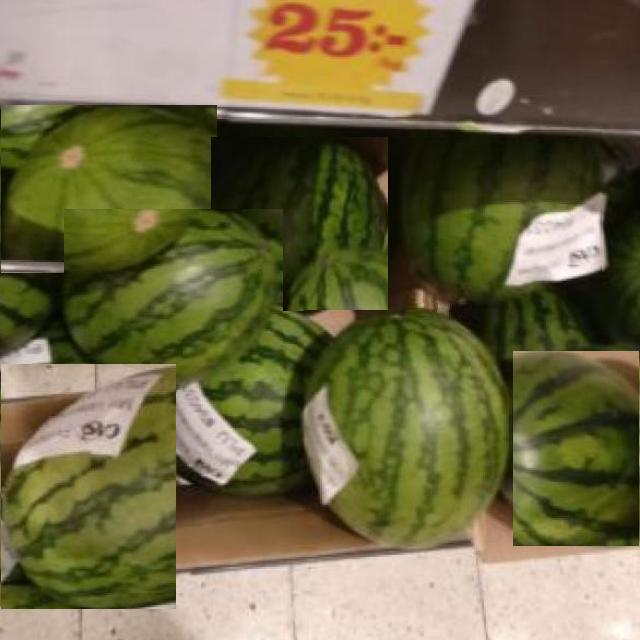Watermelon: (304, 310, 511, 547), (0, 363, 176, 609), (65, 210, 283, 387), (0, 105, 217, 273), (404, 131, 602, 303), (212, 137, 388, 311), (512, 351, 640, 546)
